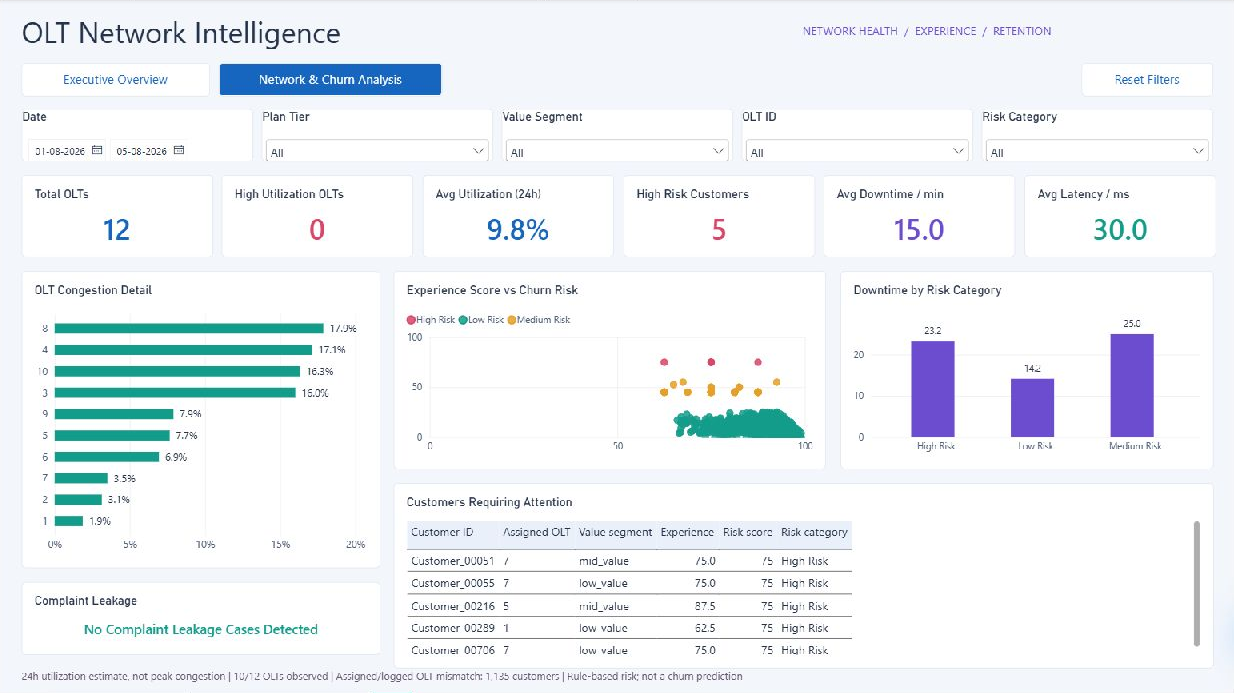

The dashboard page shown, as its layout file describes it:
{"tool":"powerbi","page":{"name":"Network & Churn Analysis","canvas":[1600,900],"ordinal":1},"visuals":[{"type":"textbox","box":[28,17,980,54],"z":18},{"type":"textbox","box":[1040,31,530,32],"z":19},{"type":"actionButton","box":[28,83,244,43],"z":20},{"type":"actionButton","box":[284,83,290,43],"z":21},{"type":"actionButton","box":[1402,83,170,43],"z":22},{"type":"slicer","title":"Date","fields":{"Values":["DateTable.Date"]},"box":[28,142,300,68],"z":23},{"type":"slicer","title":"Plan Tier","fields":{"Values":["plans_clean.plan_tier"]},"box":[339,142,300,68],"z":24},{"type":"slicer","title":"Value Segment","fields":{"Values":["customers_clean.value_segment"]},"box":[650,142,300,68],"z":25},{"type":"slicer","title":"OLT ID","fields":{"Values":["olt_info_clean.olt_id"]},"box":[961,142,300,68],"z":26},{"type":"slicer","title":"Risk Category","fields":{"Values":["customer_daily_metrics.churn_risk_category"]},"box":[1272,142,300,68],"z":27},{"type":"card","title":"Total OLTs","fields":{"Values":["_Measures.Total OLTs"]},"box":[28,228,248,106],"z":28},{"type":"card","title":"High Utilization OLTs","fields":{"Values":["_Measures.High Congestion OLTs"]},"box":[288,228,248,106],"z":29},{"type":"card","title":"Avg Utilization (24h)","fields":{"Values":["_Measures.Avg Congestion Ratio"]},"box":[548,228,248,106],"z":30},{"type":"card","title":"High Risk Customers","fields":{"Values":["_Measures.High Risk Customers"]},"box":[808,228,248,106],"z":31},{"type":"card","title":"Avg Downtime / min","fields":{"Values":["_Measures.Avg Downtime Minutes"]},"box":[1068,228,248,106],"z":32},{"type":"card","title":"Avg Latency / ms","fields":{"Values":["_Measures.Avg Latency Ms"]},"box":[1328,228,248,106],"z":33},{"type":"textbox","box":[28,866,1544,25],"z":34},{"type":"barChart","title":"OLT Congestion Detail","fields":{"Category":["olt_info_clean.olt_id"],"Y":["_Measures.Avg Congestion Ratio"]},"box":[28,352,465,385],"z":40},{"type":"scatterChart","title":"Experience Score vs Churn Risk","fields":{"Category":["customers_clean.customer_id"],"Series":["customer_daily_metrics.churn_risk_category"],"X":["_Measures.Avg Experience Score"],"Y":["_Measures.Avg Risk Score"]},"box":[511,352,560,257],"z":41},{"type":"columnChart","title":"Downtime by Risk Category","fields":{"Category":["customer_daily_metrics.churn_risk_category"],"Y":["_Measures.Avg Downtime Minutes"]},"box":[1089,352,483,257],"z":42},{"type":"tableEx","title":"Customers Requiring Attention","fields":{"Values":["customers_clean.customer_id","customers_clean.olt_id","customers_clean.value_segment","_Measures.Avg Experience Score","_Measures.Max Risk Score","customer_daily_metrics.churn_risk_category"]},"box":[510.4,626.9,1062.2,239.6],"z":43},{"type":"card","title":"Complaint Leakage","fields":{"Values":["_Measures.Leakage Status"]},"box":[28,755,465,94],"z":44}]}

Visuals, with their boxes in screenshot pixels (x1, y1, x2, y2), scaled from the page's 1600x900 canvas onto the 1234x693 screenshot:
textbox: (left=22, top=13, right=777, bottom=55)
textbox: (left=802, top=24, right=1211, bottom=49)
actionButton: (left=22, top=64, right=210, bottom=97)
actionButton: (left=219, top=64, right=443, bottom=97)
actionButton: (left=1081, top=64, right=1212, bottom=97)
"Date" slicer: (left=22, top=109, right=253, bottom=162)
"Plan Tier" slicer: (left=261, top=109, right=493, bottom=162)
"Value Segment" slicer: (left=501, top=109, right=733, bottom=162)
"OLT ID" slicer: (left=741, top=109, right=973, bottom=162)
"Risk Category" slicer: (left=981, top=109, right=1212, bottom=162)
"Total OLTs" card: (left=22, top=176, right=213, bottom=257)
"High Utilization OLTs" card: (left=222, top=176, right=413, bottom=257)
"Avg Utilization (24h)" card: (left=423, top=176, right=614, bottom=257)
"High Risk Customers" card: (left=623, top=176, right=814, bottom=257)
"Avg Downtime / min" card: (left=824, top=176, right=1015, bottom=257)
"Avg Latency / ms" card: (left=1024, top=176, right=1215, bottom=257)
textbox: (left=22, top=667, right=1212, bottom=686)
"OLT Congestion Detail" barChart: (left=22, top=271, right=380, bottom=567)
"Experience Score vs Churn Risk" scatterChart: (left=394, top=271, right=826, bottom=469)
"Downtime by Risk Category" columnChart: (left=840, top=271, right=1212, bottom=469)
"Customers Requiring Attention" tableEx: (left=394, top=483, right=1213, bottom=667)
"Complaint Leakage" card: (left=22, top=581, right=380, bottom=654)
